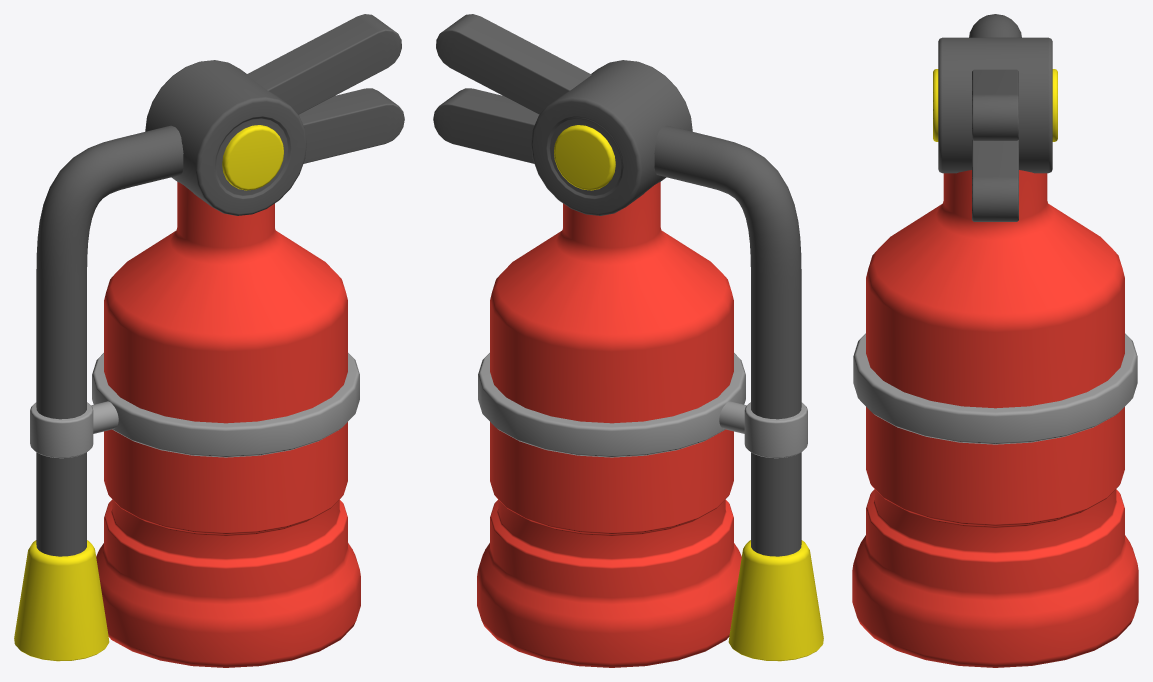
The model's file is Public_11_Fire_Extinguisher_1.glb.
3 renders of one model, left to right at view 1: azimuth 30°, elevation 25°; view 2: azimuth 150°, elevation 25°; view 3: azimuth 270°, elevation 25°, orthographic. The views are drawn at different scales.
Visible parts, largest first — view 1: Public_11_Fire_Extinguisher_1; view 2: Public_11_Fire_Extinguisher_1; view 3: Public_11_Fire_Extinguisher_1.
Part boxes in pixels (<box>): Public_11_Fire_Extinguisher_1: <box>14,14,404,667</box>; Public_11_Fire_Extinguisher_1: <box>433,14,823,667</box>; Public_11_Fire_Extinguisher_1: <box>852,14,1138,667</box>.
Bounding box in the file's own units: 1.32 × 1.87 × 0.8212.
1 material, 1 textured.
